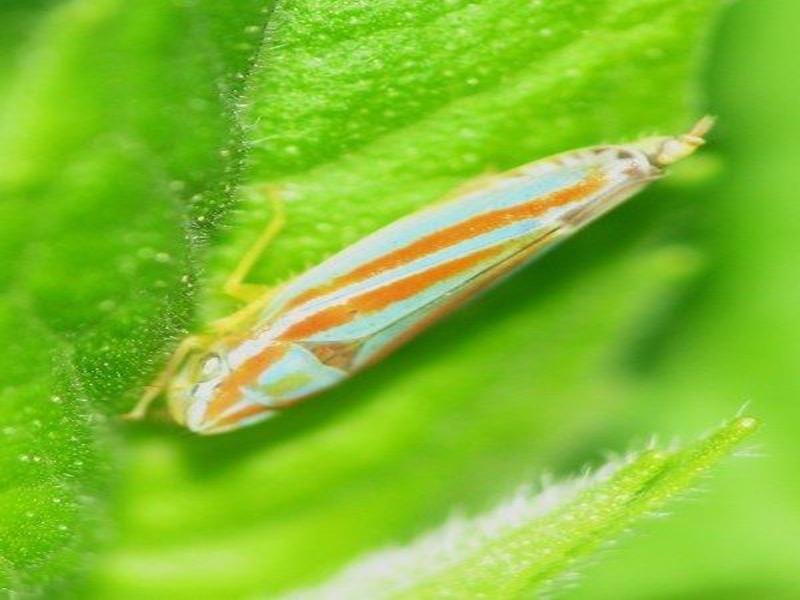Brown_plant_leafhopper: (127, 112, 728, 448)
